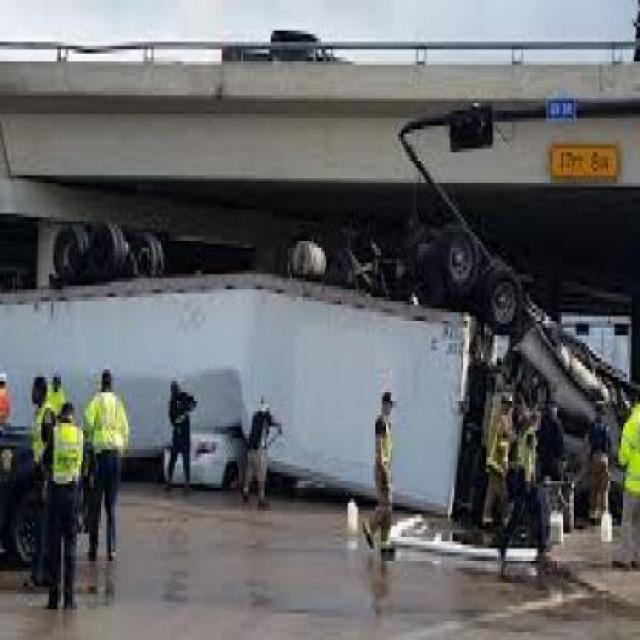accident: (2, 208, 595, 549)
